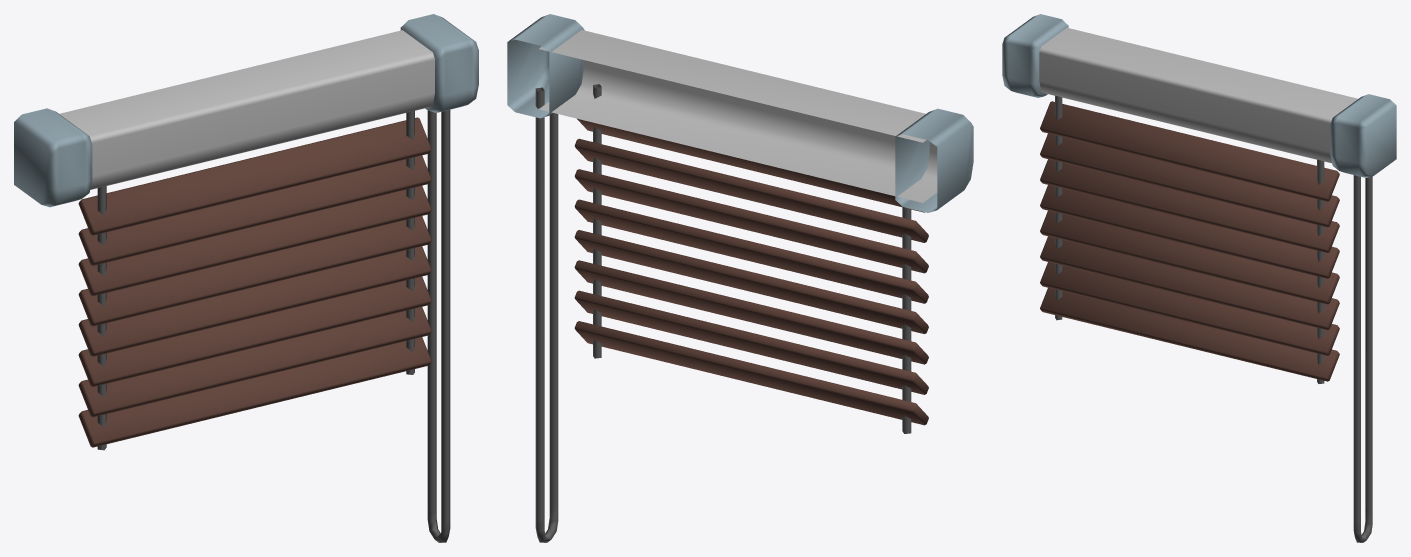
File: curtain_028.fbx
3 renders of one model, left to right at view 1: azimuth 30°, elevation 25°; view 2: azimuth 150°, elevation 25°; view 3: azimuth 330°, elevation 25°, orthographic. The views are drawn at different scales.
Visible parts, largest first — view 1: curtain_028; view 2: curtain_028; view 3: curtain_028.
Boxes of the visible parts, bbox=[...] form: curtain_028: bbox=[14, 14, 478, 542]; curtain_028: bbox=[507, 14, 973, 542]; curtain_028: bbox=[1002, 14, 1396, 542].
Bounding box in the file's own units: 200 × 30.34 × 229.
